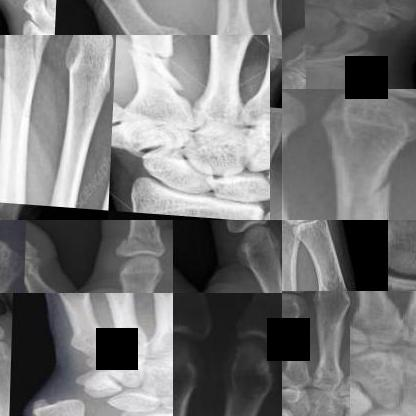fracture: (313, 159, 405, 219), (304, 44, 383, 86), (116, 35, 181, 72), (116, 222, 172, 261), (14, 35, 48, 95), (154, 6, 209, 34), (309, 317, 350, 352), (282, 324, 311, 360), (270, 25, 281, 35)
